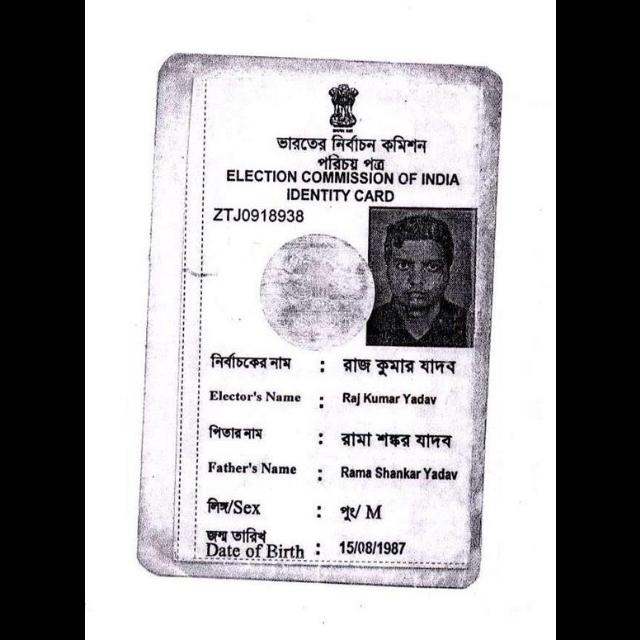voter_id: (167, 65, 487, 578)
